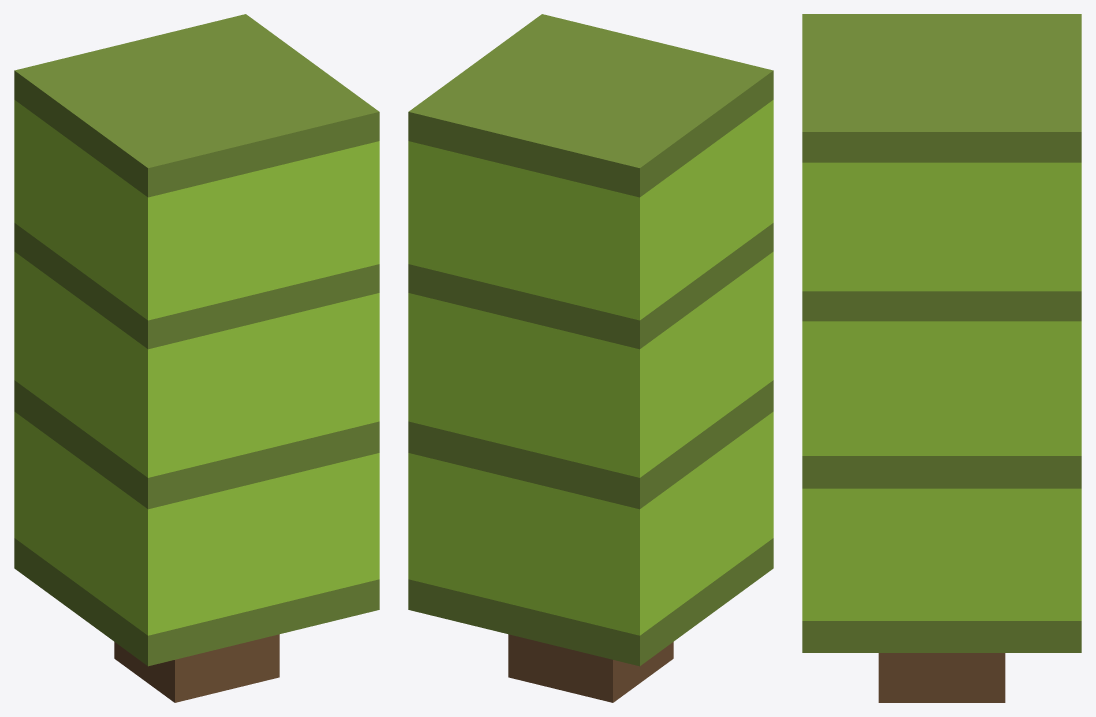
Rendered from tree_3.glb.
The picture shows the model from 3 angles, left to right: view 1: azimuth 30°, elevation 25°; view 2: azimuth 150°, elevation 25°; view 3: azimuth 270°, elevation 25°; orthographic projection. The views are drawn at different scales.
Visible parts, largest first — view 1: Tree_3; view 2: Tree_3; view 3: Tree_3.
Boxes of the visible parts, bbox=[...] form: Tree_3: bbox=[14, 14, 379, 702]; Tree_3: bbox=[408, 14, 773, 702]; Tree_3: bbox=[802, 14, 1081, 702].
Bounding box in the file's own units: 6.67 × 15.9 × 6.67.
